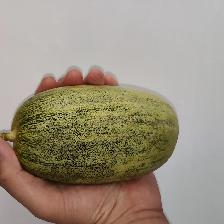gua: (30, 93, 167, 170)
